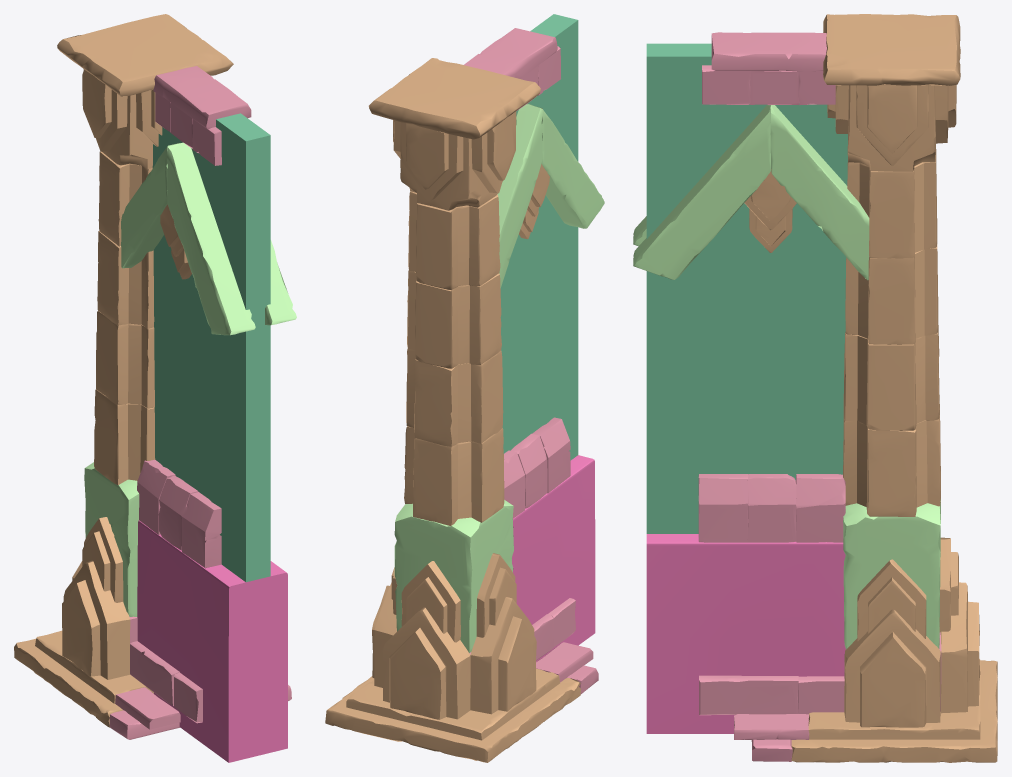
Rendered from Column_base_07_medium_corner_01.fbx.
3 renders of one model, left to right at view 1: azimuth 30°, elevation 25°; view 2: azimuth 150°, elevation 25°; view 3: azimuth 270°, elevation 25°, orthographic. The views are drawn at different scales.
Parts seen in each view (by area): view 1: Column_base_07_medium_corner_01_LOD0; view 2: Column_base_07_medium_corner_01_LOD0; view 3: Column_base_07_medium_corner_01_LOD0.
Boxes of the visible parts, bbox=[...] form: Column_base_07_medium_corner_01_LOD0: bbox=[14, 14, 296, 762]; Column_base_07_medium_corner_01_LOD0: bbox=[325, 14, 604, 762]; Column_base_07_medium_corner_01_LOD0: bbox=[633, 14, 997, 762].
Size of what is drawn, in the model's own units: 269 by 974 by 474.
